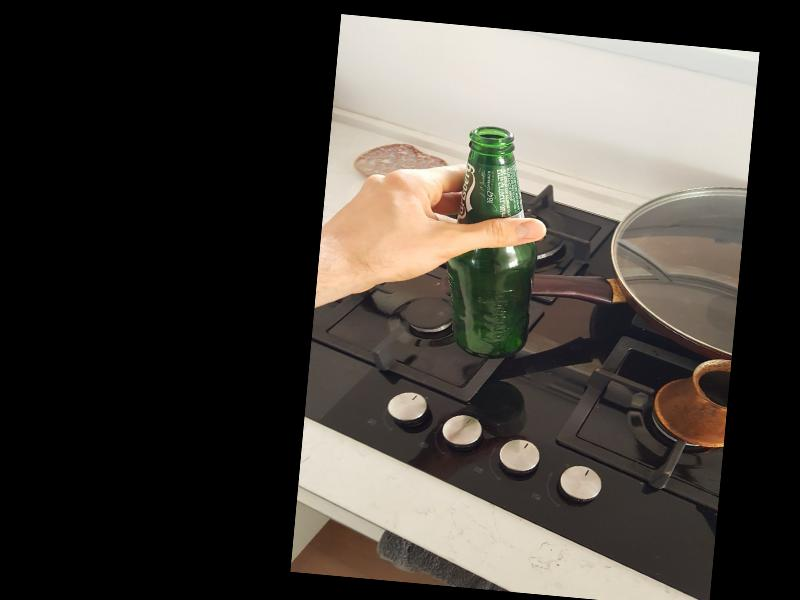Beer: (448, 127, 545, 361)
